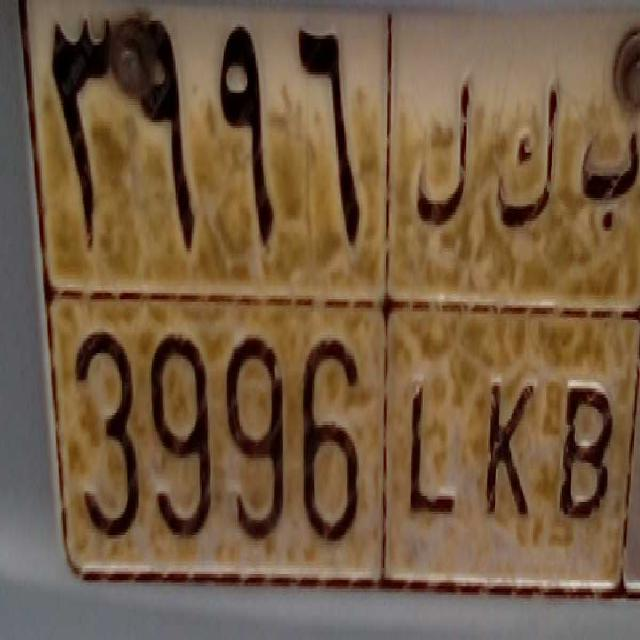license_plate: (48, 283, 640, 615)
